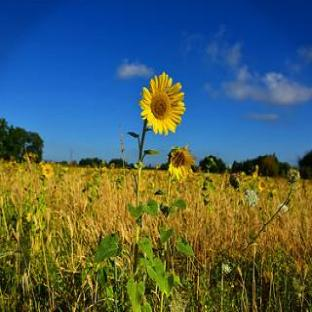sunflower: (137, 74, 186, 146)
